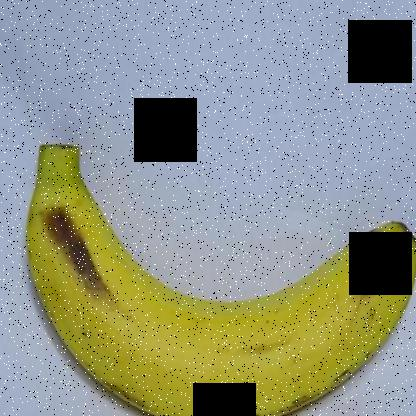freshripe: (11, 126, 415, 415)
